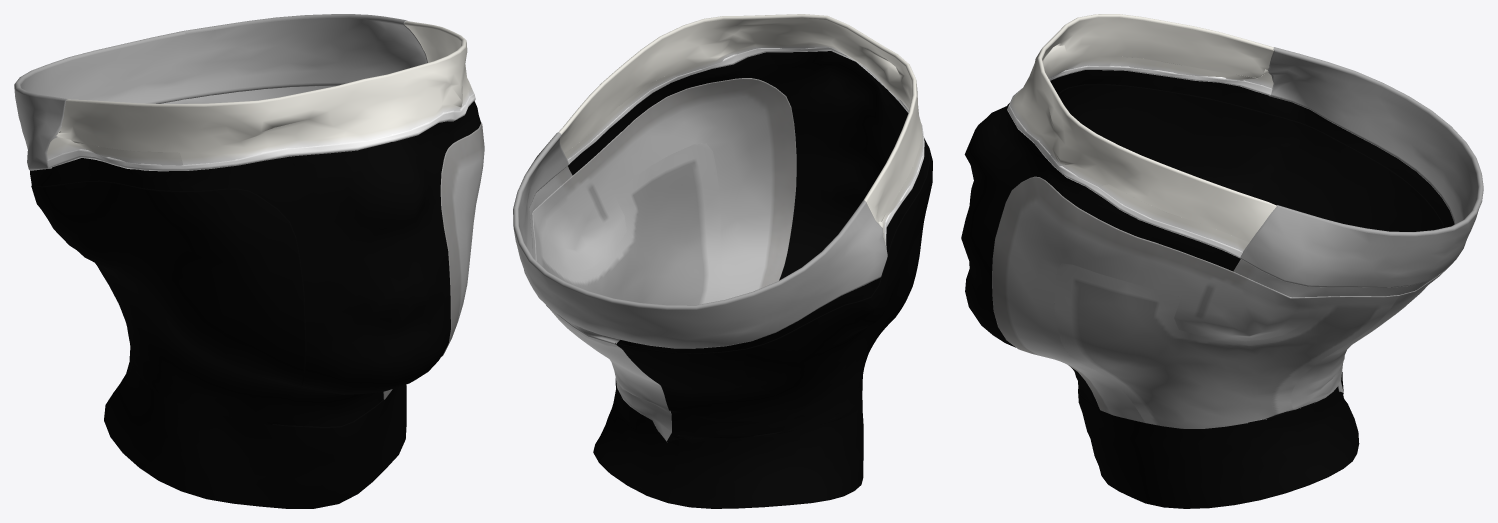
File: NETC0.glb
3 renders of one model, left to right at view 1: azimuth 30°, elevation 25°; view 2: azimuth 150°, elevation 25°; view 3: azimuth 270°, elevation 25°, orthographic. The views are drawn at different scales.
Visible parts, largest first — view 1: Pattern2D_7360_Node, Pattern2D_14660_Node, Pattern2D_7369_Node, Pattern2D_7357_Node, Pattern2D_14665_Node, Pattern2D_7371_Node, Pattern2D_7372_Node, Pattern2D_7368_Node, Pattern2D_14663_Node, Pattern2D_7358_Node, Pattern2D_14664_Node, Pattern2D_7363_Node; view 2: Pattern2D_7372_Node, Pattern2D_7360_Node, Pattern2D_14660_Node, Pattern2D_7357_Node, Pattern2D_14665_Node, Pattern2D_7374_Node, Pattern2D_7371_Node, Pattern2D_7375_Node, Pattern2D_7366_Node, Pattern2D_7373_Node, Pattern2D_7368_Node, Pattern2D_14663_Node (+6 smaller); view 3: Pattern2D_7374_Node, Pattern2D_14660_Node, Pattern2D_14665_Node, Pattern2D_7357_Node, Pattern2D_7372_Node, Pattern2D_7360_Node, Pattern2D_7368_Node, Pattern2D_7369_Node, Pattern2D_7366_Node, Pattern2D_7371_Node, Pattern2D_7365_Node, Pattern2D_14663_Node (+6 smaller).
Boxes of the visible parts, box(x1,y1,x2,y2) form: Pattern2D_7360_Node: box(50, 101, 480, 426); Pattern2D_14660_Node: box(14, 14, 427, 170); Pattern2D_7369_Node: box(86, 180, 306, 424); Pattern2D_7357_Node: box(104, 354, 406, 508); Pattern2D_14665_Node: box(56, 21, 469, 165); Pattern2D_7371_Node: box(95, 237, 233, 410); Pattern2D_7372_Node: box(383, 122, 484, 399); Pattern2D_7368_Node: box(31, 181, 126, 278); Pattern2D_14663_Node: box(47, 93, 475, 171); Pattern2D_7358_Node: box(289, 124, 436, 179); Pattern2D_14664_Node: box(47, 137, 182, 165); Pattern2D_7363_Node: box(161, 86, 335, 103); Pattern2D_7372_Node: box(595, 78, 796, 301); Pattern2D_7360_Node: box(568, 52, 928, 280); Pattern2D_14660_Node: box(513, 132, 887, 348); Pattern2D_7357_Node: box(593, 378, 863, 508); Pattern2D_14665_Node: box(558, 14, 923, 227); Pattern2D_7374_Node: box(535, 143, 721, 305); Pattern2D_7371_Node: box(744, 214, 925, 433); Pattern2D_7375_Node: box(615, 342, 786, 441); Pattern2D_7366_Node: box(532, 156, 626, 271); Pattern2D_7373_Node: box(546, 305, 671, 442); Pattern2D_7368_Node: box(817, 242, 895, 346); Pattern2D_14663_Node: box(567, 47, 924, 248); Pattern2D_7374_Node: box(1054, 263, 1399, 428); Pattern2D_14660_Node: box(1239, 47, 1483, 287); Pattern2D_14665_Node: box(1010, 14, 1276, 242); Pattern2D_7357_Node: box(1078, 372, 1359, 508); Pattern2D_7372_Node: box(992, 176, 1200, 422); Pattern2D_7360_Node: box(961, 70, 1270, 407); Pattern2D_7368_Node: box(1200, 103, 1349, 207); Pattern2D_7369_Node: box(1058, 84, 1229, 152); Pattern2D_7366_Node: box(1174, 259, 1330, 341); Pattern2D_7371_Node: box(1112, 141, 1412, 230); Pattern2D_7365_Node: box(1268, 96, 1454, 227); Pattern2D_14663_Node: box(1007, 66, 1272, 257).
Size of the model in its own units: 0.1807 by 0.1972 by 0.2247.
54 materials, 30 textured.
